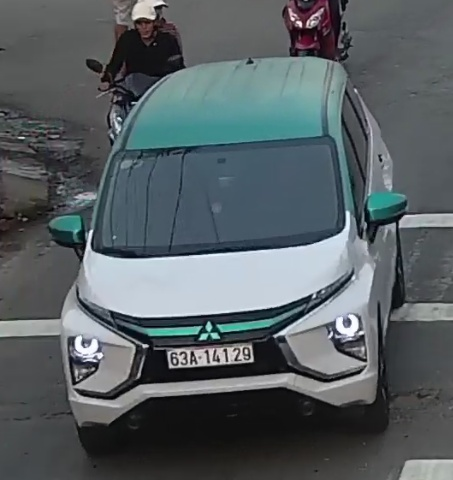vehicle plate: (165, 340, 261, 370)
